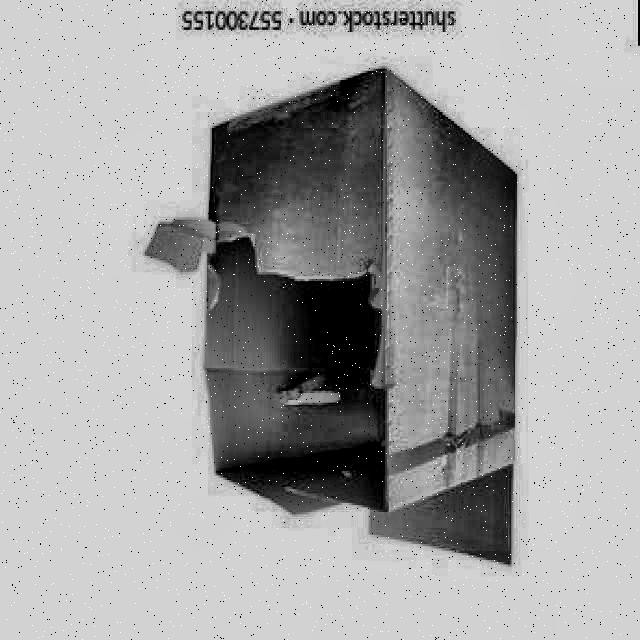box: (134, 65, 526, 578)
hole: (202, 209, 388, 500)
